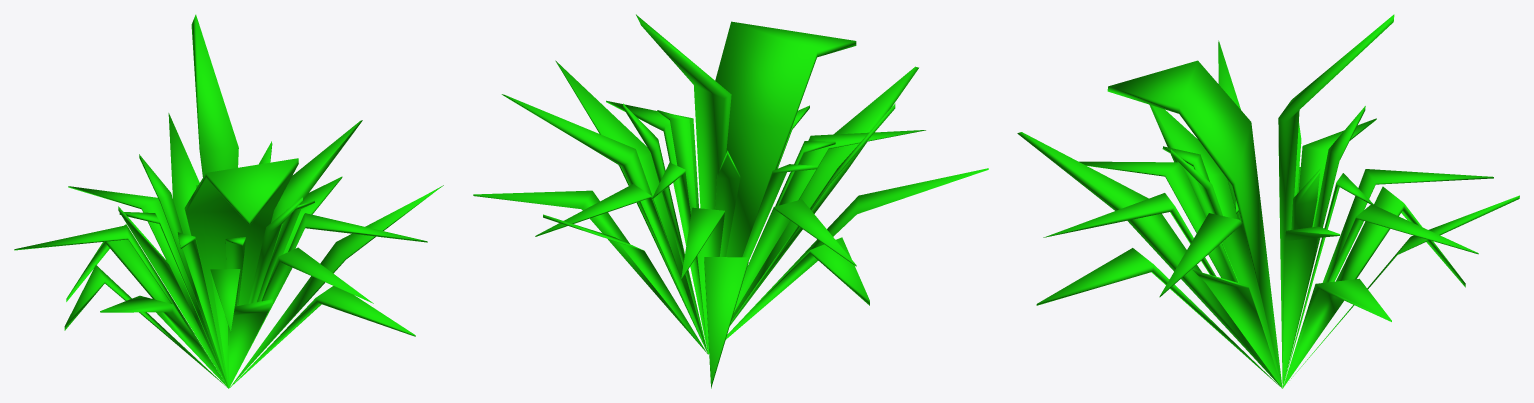
Rendered from PlantLeaves.fbx.
3 views of the same model, side by side, from view 1: azimuth 30°, elevation 25°; view 2: azimuth 150°, elevation 25°; view 3: azimuth 270°, elevation 25° (orthographic). The views are drawn at different scales.
Parts seen in each view (by area): view 1: PlantLeaves; view 2: PlantLeaves; view 3: PlantLeaves.
Boxes of the visible parts, x1,y1,x2,y2 form: PlantLeaves: (14,14,443,388); PlantLeaves: (473,14,988,388); PlantLeaves: (1017,14,1519,388).
Size of the model in its own units: 145 by 127 by 151.
